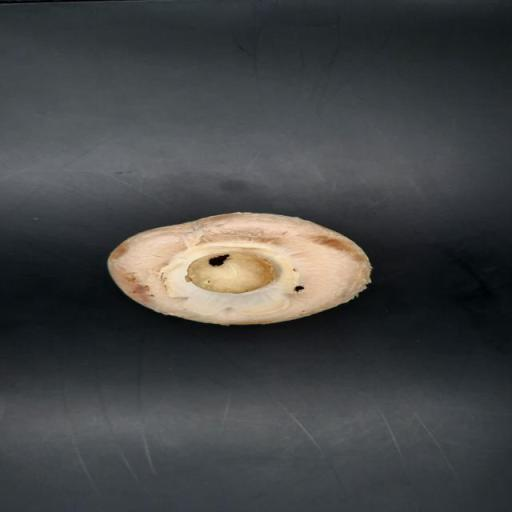mushroom: (105, 208, 375, 331)
